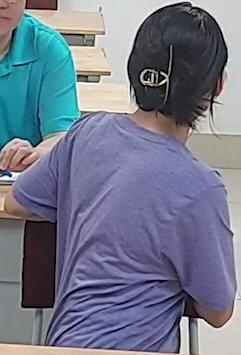Turning_Around: (6, 0, 234, 348)
